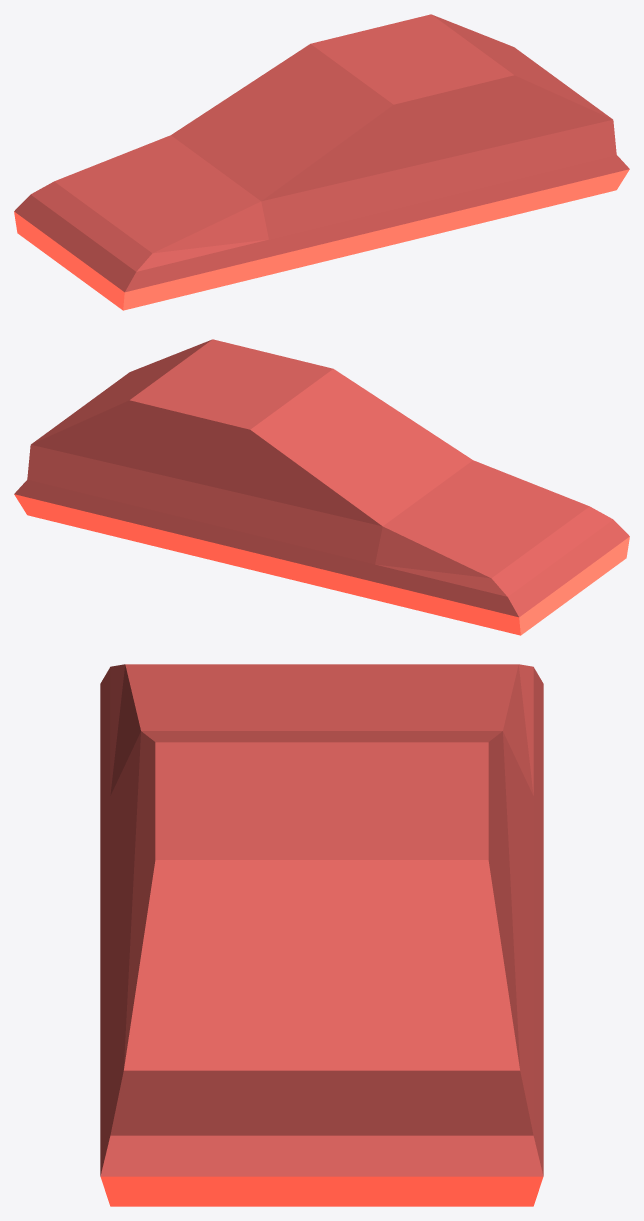
Rendered from car_red.glb.
3 views of the same model, one above another, from view 1: azimuth 30°, elevation 25°; view 2: azimuth 150°, elevation 25°; view 3: azimuth 270°, elevation 25° (orthographic). The views are drawn at different scales.
Parts seen in each view (by area): view 1: Voiture Rouge; view 2: Voiture Rouge; view 3: Voiture Rouge.
Boxes of the visible parts, x1=… form: Voiture Rouge: x1=14, y1=14, x2=629, y2=310; Voiture Rouge: x1=14, y1=339, x2=629, y2=635; Voiture Rouge: x1=100, y1=664, x2=543, y2=1206.
Bounding box in the file's own units: 1.68 × 0.4352 × 0.638.
